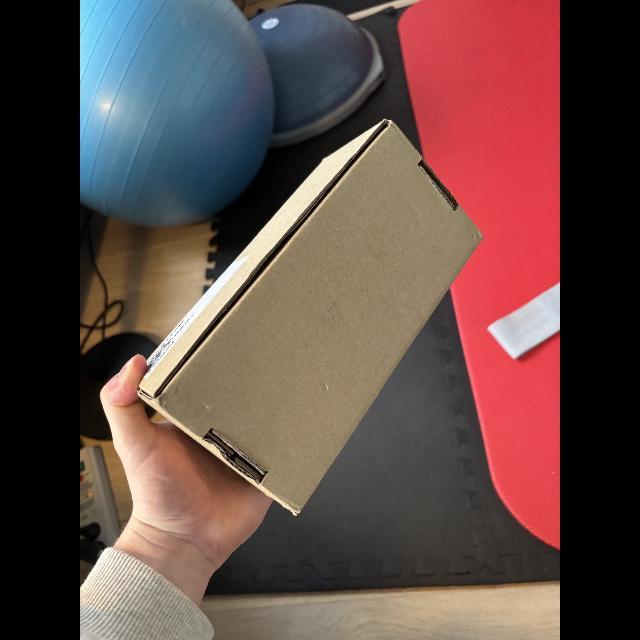Cardboard: (138, 117, 480, 521)
